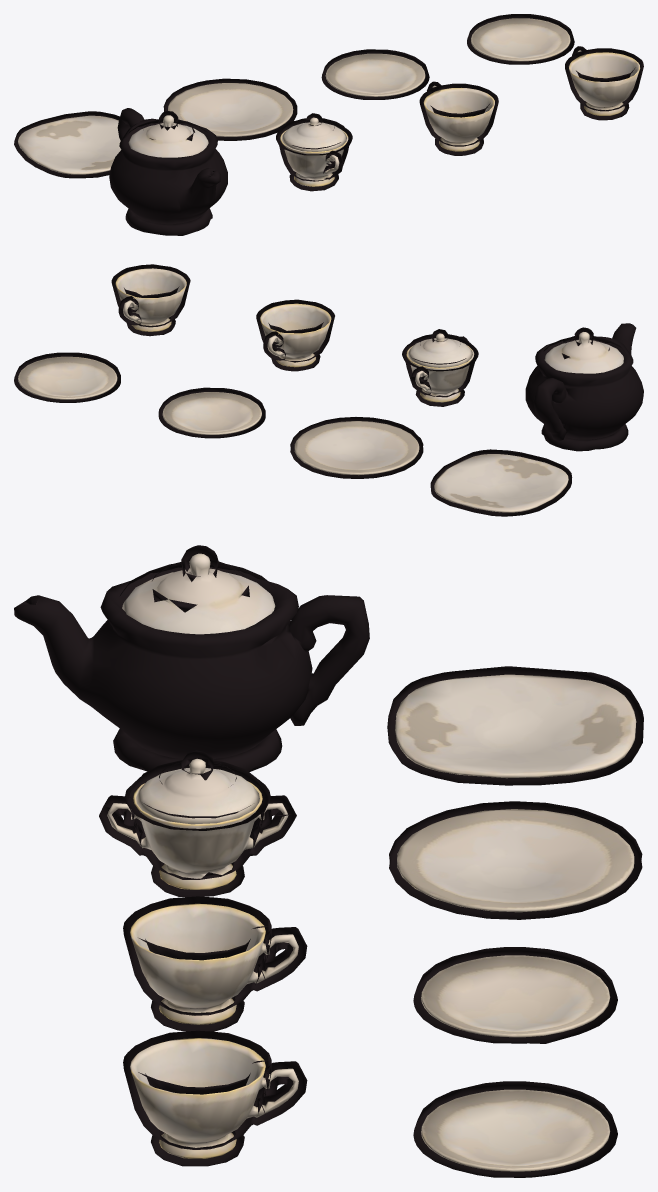
The model's file is SM_Int_TeaSet.fbx.
3 renders of one model, top to bottom at view 1: azimuth 30°, elevation 25°; view 2: azimuth 150°, elevation 25°; view 3: azimuth 270°, elevation 25°, orthographic. The views are drawn at different scales.
Parts seen in each view (by area): view 1: SM_Int_TeaSet; view 2: SM_Int_TeaSet; view 3: SM_Int_TeaSet.
Boxes of the visible parts, box(x1,y1,x2,y2) form: SM_Int_TeaSet: box(14, 14, 643, 235); SM_Int_TeaSet: box(14, 264, 643, 516); SM_Int_TeaSet: box(14, 545, 643, 1177).
Size of the model in its own units: 0.5068 by 0.0971 by 0.2699.
